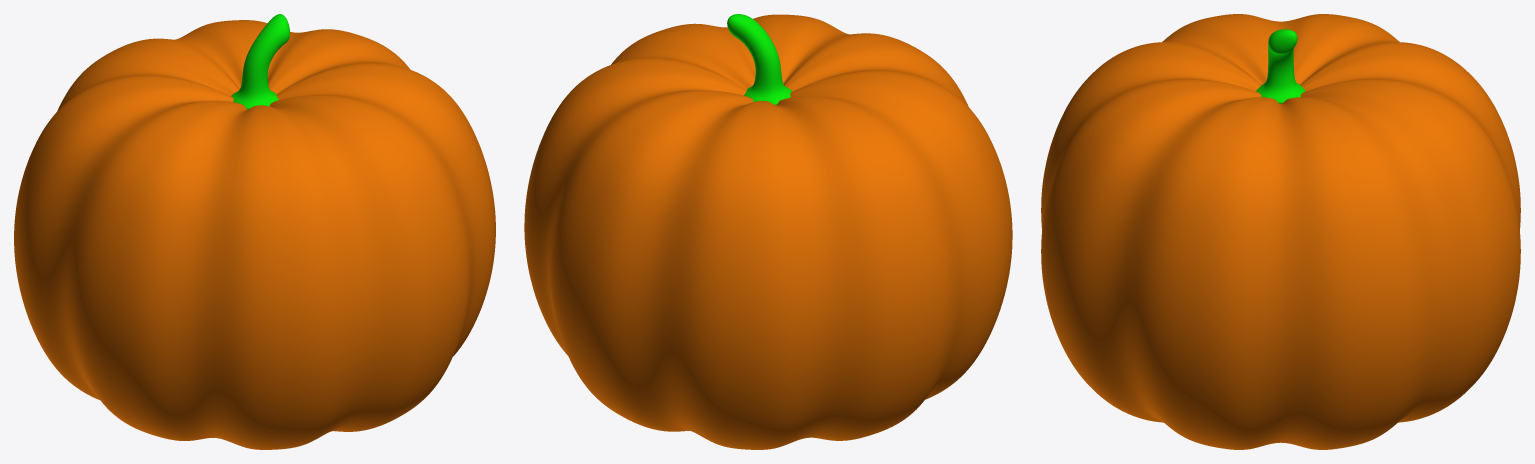
File: PumpkinMerged.fbx
3 renders of one model, left to right at view 1: azimuth 30°, elevation 25°; view 2: azimuth 150°, elevation 25°; view 3: azimuth 270°, elevation 25°, orthographic. The views are drawn at different scales.
Visible parts, largest first — view 1: PumpkinMerged; view 2: PumpkinMerged; view 3: PumpkinMerged.
Part boxes in pixels (x1,y1,x2,y2): PumpkinMerged: (14,14,495,449); PumpkinMerged: (524,14,1012,449); PumpkinMerged: (1041,14,1520,449).
Bounding box in the file's own units: 1.63 × 1.43 × 1.63.
